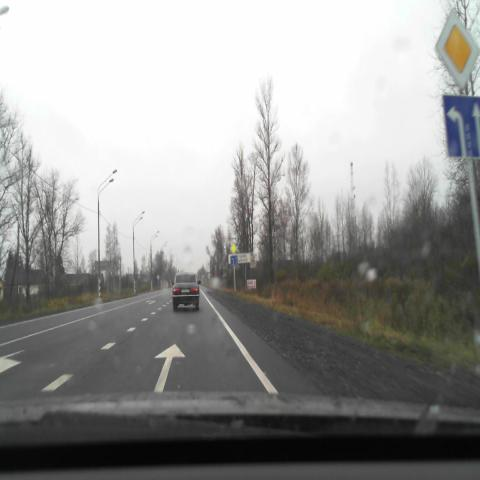2_1: (436, 8, 480, 89)
5_15_2_2: (442, 95, 480, 158)
